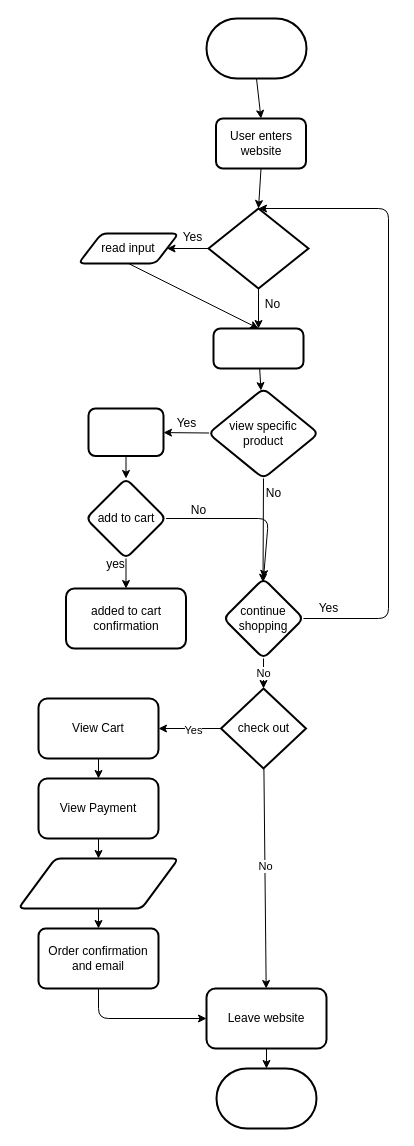
The diagram is 414 pixels wide and 1146 high, and some of its shapes have lost their labels. Here are the shapes that lost their labels. From the top down, the centre of each, then its label:
pixel 256 48: Start
pixel 258 248: Search for product
pixel 258 348: look over products
pixel 125 431: product webpage opens
pixel 98 883: Input payment info
pixel 266 1098: End
